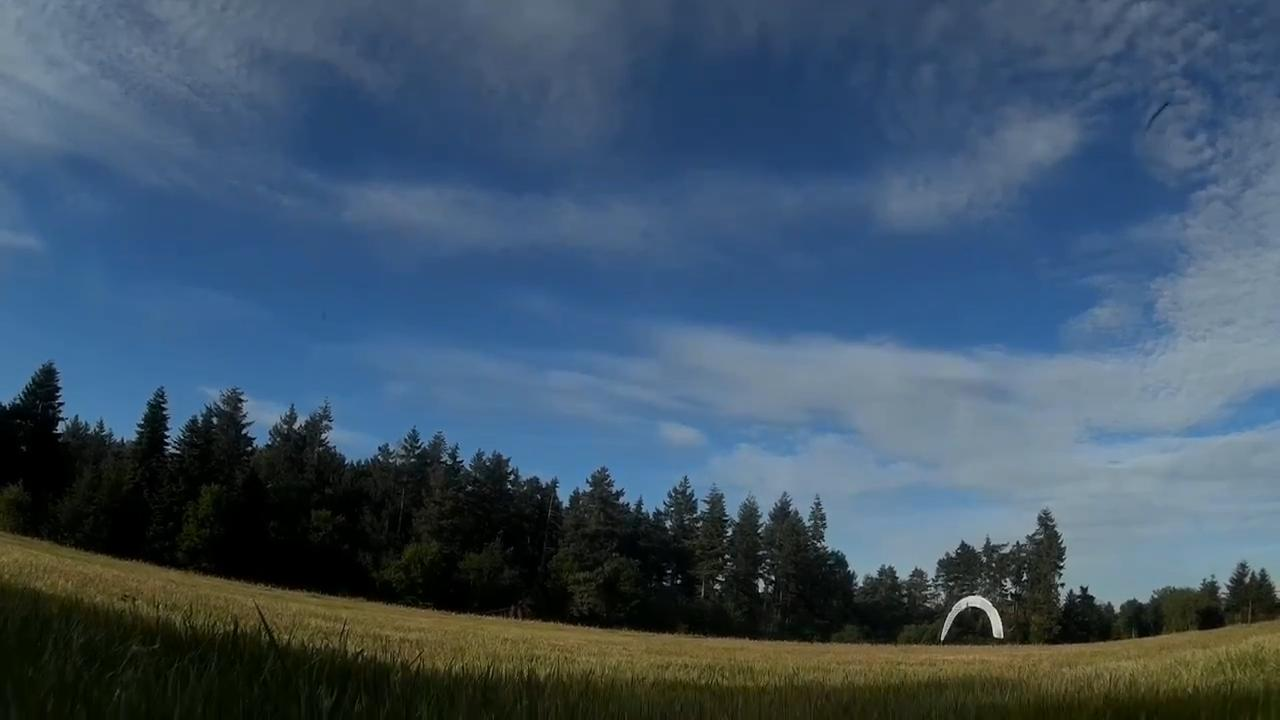gate: (940, 595, 1004, 642)
